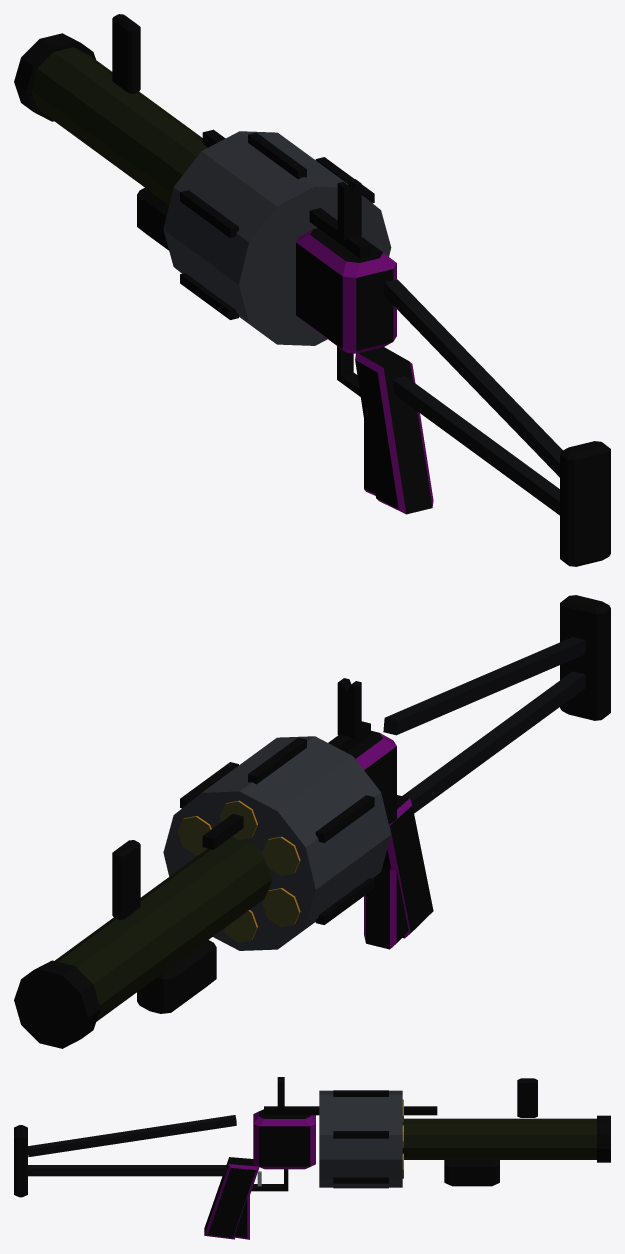
File: SM_Wep_GrenadeLauncher.glb
3 renders of one model, top to bottom at view 1: azimuth 30°, elevation 25°; view 2: azimuth 150°, elevation 25°; view 3: azimuth 270°, elevation 25°, orthographic. The views are drawn at different scales.
Parts seen in each view (by area): view 1: SM_Wep_GrenadeLauncher, SM_Wep_GrenadeLauncher_Cylinder; view 2: SM_Wep_GrenadeLauncher, SM_Wep_GrenadeLauncher_Cylinder; view 3: SM_Wep_GrenadeLauncher, SM_Wep_GrenadeLauncher_Cylinder.
Boxes of the visible parts, left/top/right/bottom form: SM_Wep_GrenadeLauncher: left=14, top=14, right=610, bottom=566; SM_Wep_GrenadeLauncher_Cylinder: left=163, top=131, right=391, bottom=345; SM_Wep_GrenadeLauncher: left=14, top=595, right=610, bottom=1048; SM_Wep_GrenadeLauncher_Cylinder: left=163, top=736, right=391, bottom=950; SM_Wep_GrenadeLauncher: left=14, top=1077, right=610, bottom=1239; SM_Wep_GrenadeLauncher_Cylinder: left=319, top=1090, right=403, bottom=1188.
Size of the model in its own units: 0.14 by 0.25 by 0.86.
Materials: 1 (1 with a texture image).
